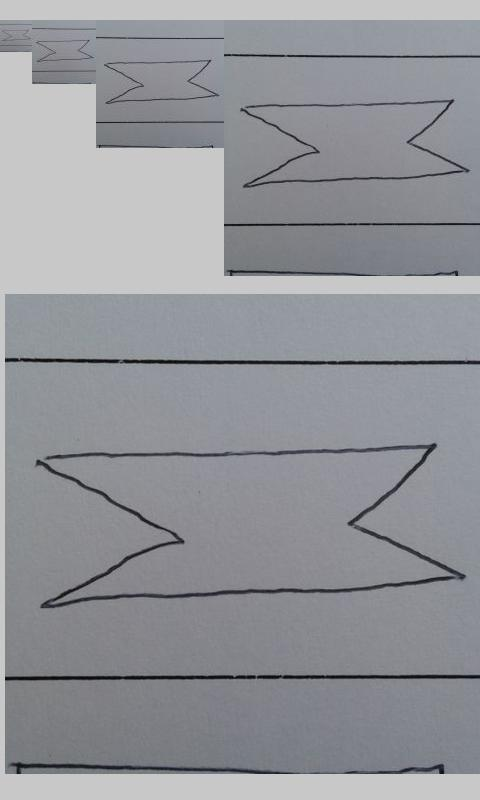edit_text: (33, 442, 461, 609), (241, 99, 465, 189), (104, 59, 219, 105), (35, 39, 94, 62), (2, 29, 30, 41)
